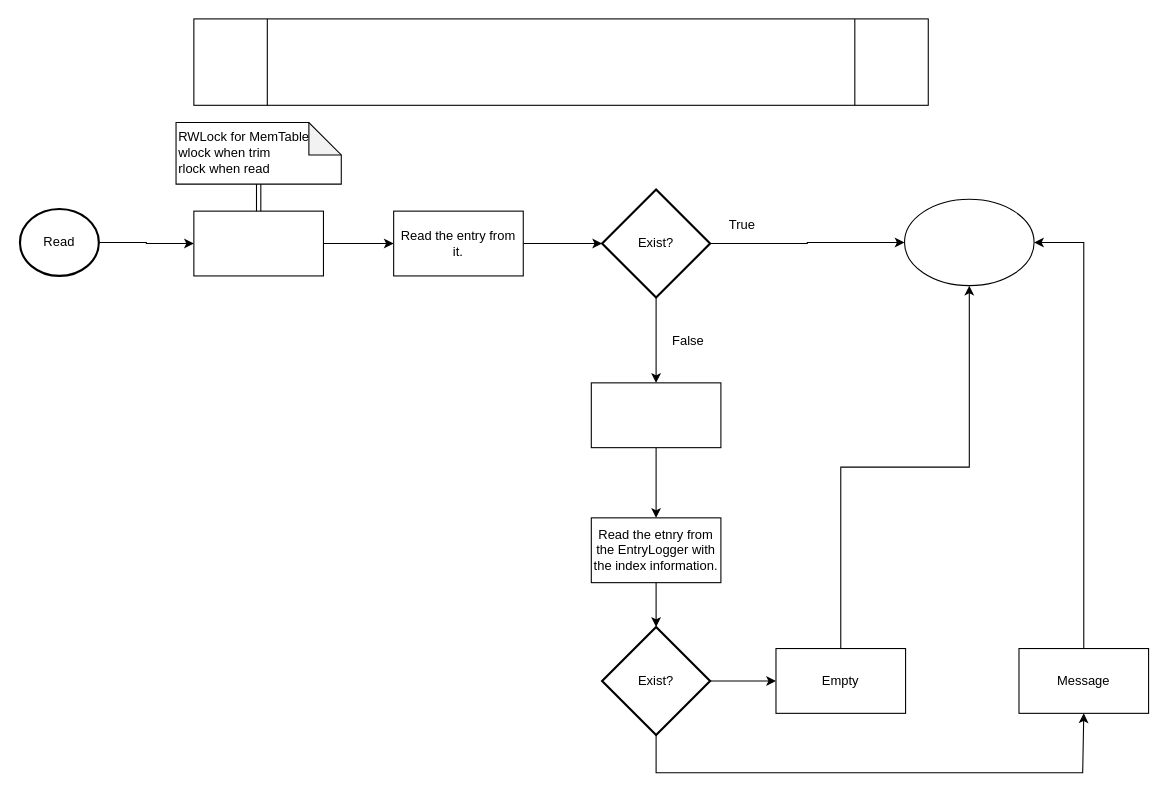
The diagram is 1167 pixels wide and 800 high, and some of its shapes have lost their labels. Each missing label, with the centre of its shape:
Read Index File to get the position of the entry: [655,415]
Read Path: [560,61]
Return: [968,242]
RLock the MemTable: [258,243]
